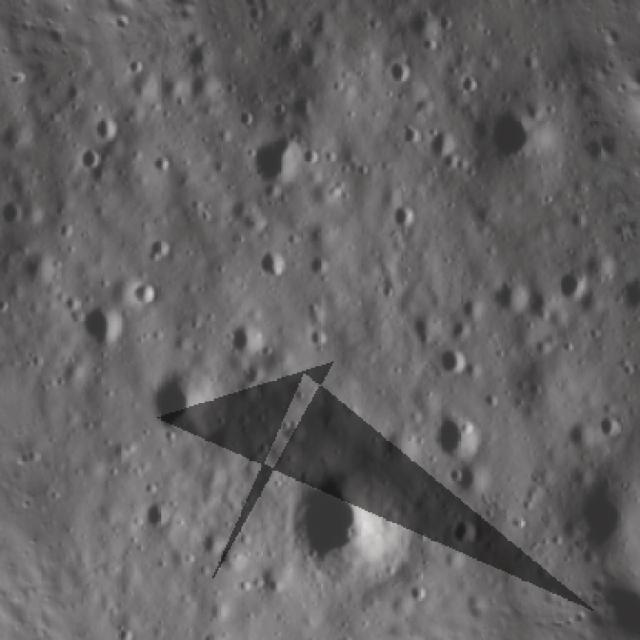crater: (268, 452, 434, 608), (538, 456, 640, 572), (138, 354, 228, 448), (480, 94, 552, 172), (236, 124, 312, 196), (422, 395, 495, 467), (72, 295, 137, 356), (167, 30, 227, 82), (215, 308, 272, 362), (480, 266, 534, 322), (12, 242, 66, 295), (442, 448, 493, 500), (550, 262, 596, 308), (430, 338, 476, 384), (421, 122, 464, 167), (260, 18, 305, 60), (513, 282, 556, 322), (84, 106, 127, 145), (126, 270, 163, 315), (253, 242, 292, 283), (402, 1, 440, 41), (302, 316, 340, 356), (609, 270, 640, 318), (141, 228, 179, 267), (194, 523, 231, 563), (284, 88, 322, 124), (444, 512, 482, 548), (142, 495, 178, 533), (382, 50, 416, 90), (0, 192, 32, 233), (386, 197, 423, 232), (593, 407, 627, 445), (450, 63, 484, 100), (75, 138, 108, 176), (300, 248, 334, 282), (298, 139, 329, 176), (435, 7, 459, 36), (415, 32, 443, 56), (457, 0, 492, 8)
